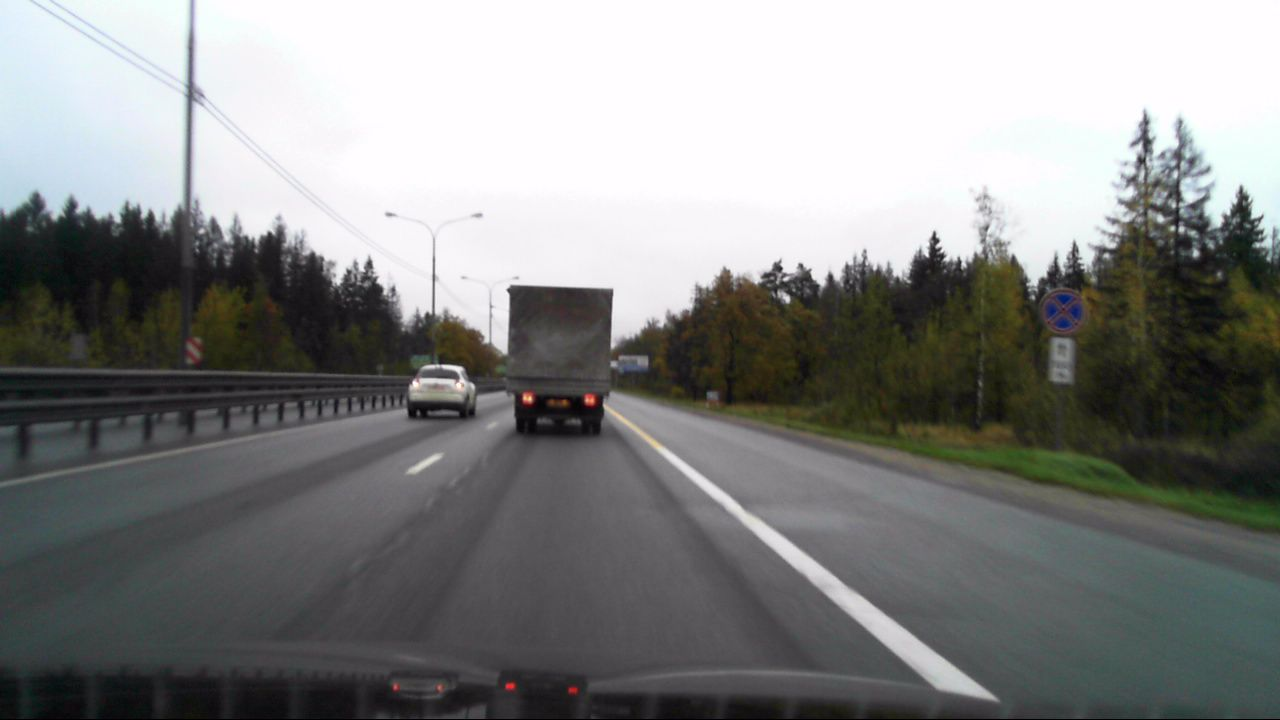No Parking: (1040, 290, 1085, 334)
